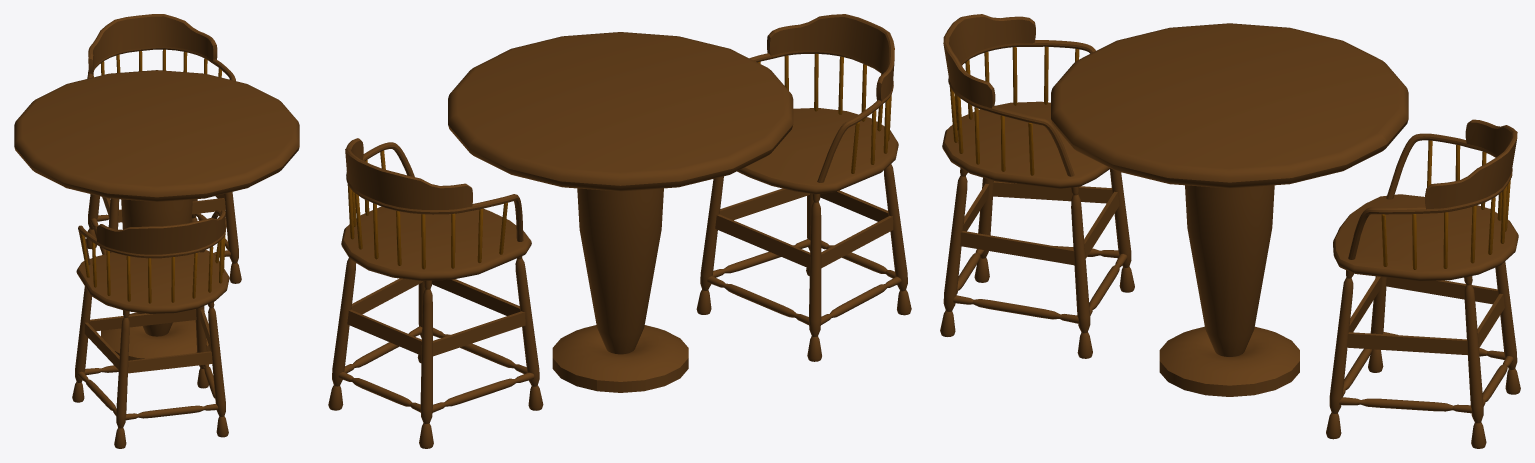
File: chairandtable.gltf
3 renders of one model, left to right at view 1: azimuth 30°, elevation 25°; view 2: azimuth 150°, elevation 25°; view 3: azimuth 270°, elevation 25°, orthographic. The views are drawn at different scales.
Parts seen in each view (by area): view 1: ChairAndTable; view 2: ChairAndTable; view 3: ChairAndTable.
Boxes of the visible parts, x1,y1,x2,y2 form: ChairAndTable: (14,14,299,448); ChairAndTable: (328,14,911,448); ChairAndTable: (940,14,1520,448).
Bounding box in the file's own units: 26.35 × 19.83 × 37.26.
1 material, 1 textured.
